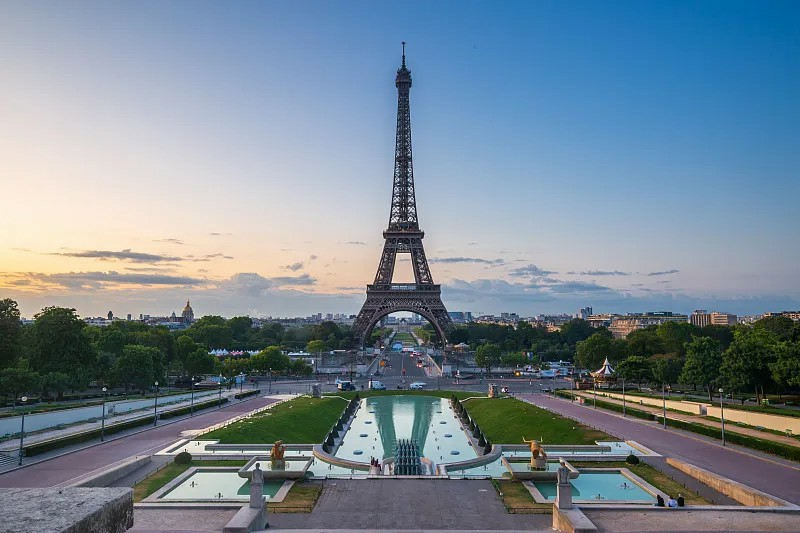Eiffel: (348, 42, 459, 353)
